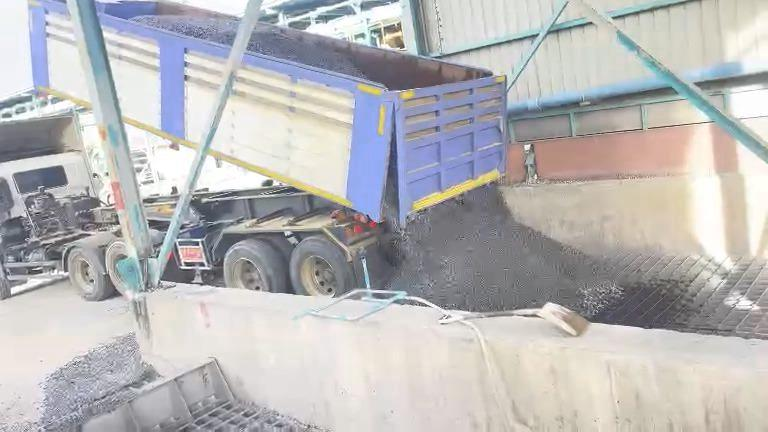gravel: (387, 185, 621, 315), (41, 333, 155, 430), (249, 23, 365, 78), (131, 15, 237, 45), (383, 149, 407, 266)
